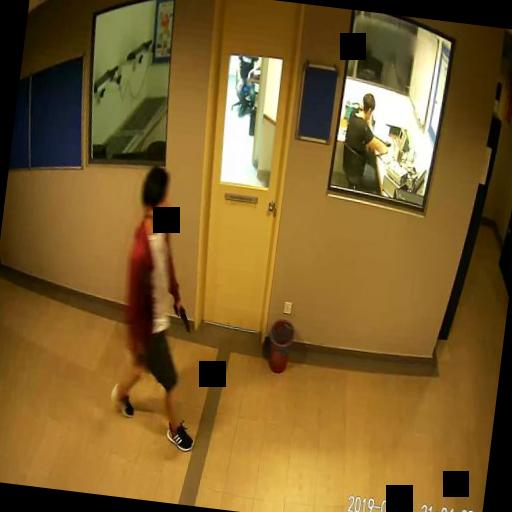Handgun: (170, 302, 192, 332)
